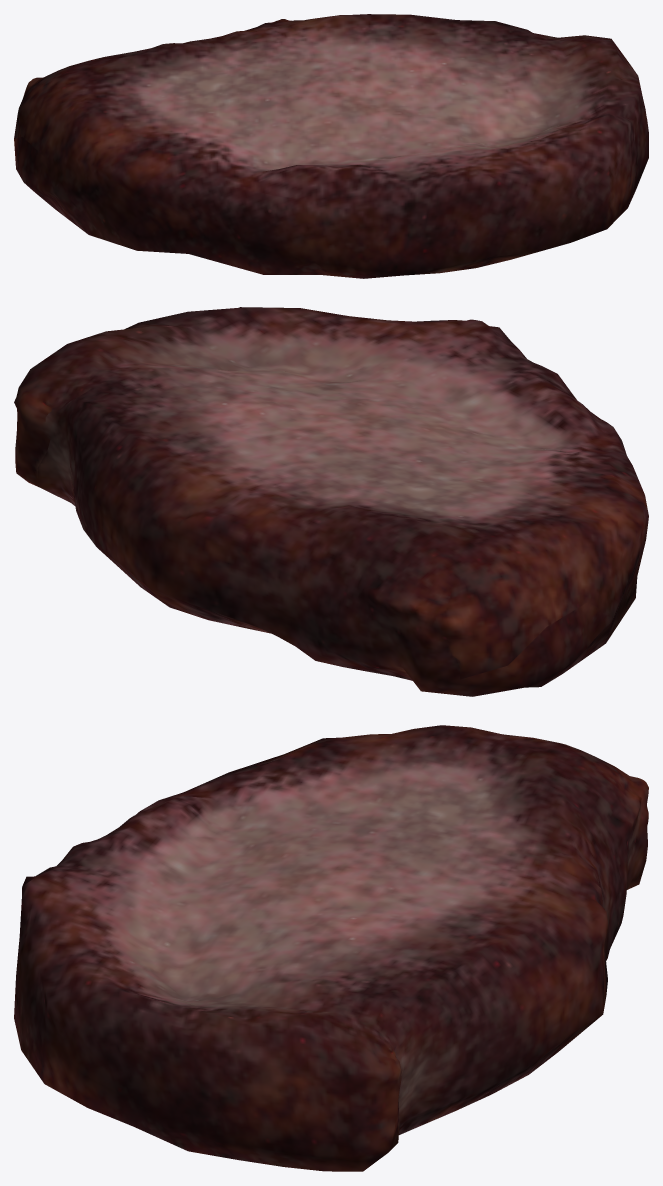
File: SM_Steak.fbx
3 renders of one model, top to bottom at view 1: azimuth 30°, elevation 25°; view 2: azimuth 150°, elevation 25°; view 3: azimuth 270°, elevation 25°, orthographic. The views are drawn at different scales.
Visible parts, largest first — view 1: SM_Steak_LOD0; view 2: SM_Steak_LOD0; view 3: SM_Steak_LOD0.
Boxes of the visible parts, left/top/right/bottom form: SM_Steak_LOD0: left=14, top=14, right=648, bottom=278; SM_Steak_LOD0: left=14, top=307, right=648, bottom=696; SM_Steak_LOD0: left=14, top=725, right=648, bottom=1171.
Size of the model in its own units: 67.64 by 54.34 by 14.1.
Materials: 1 (1 with a texture image).
